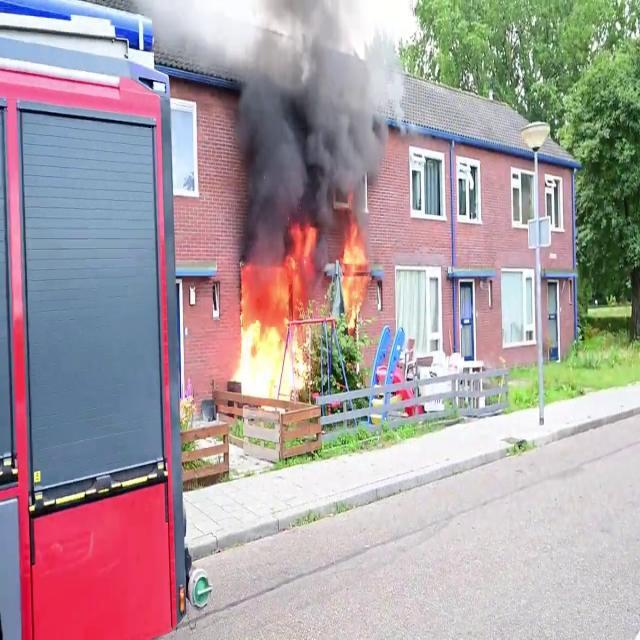Fire: (232, 220, 319, 406), (338, 222, 372, 328)
Smoke: (222, 0, 390, 249)
